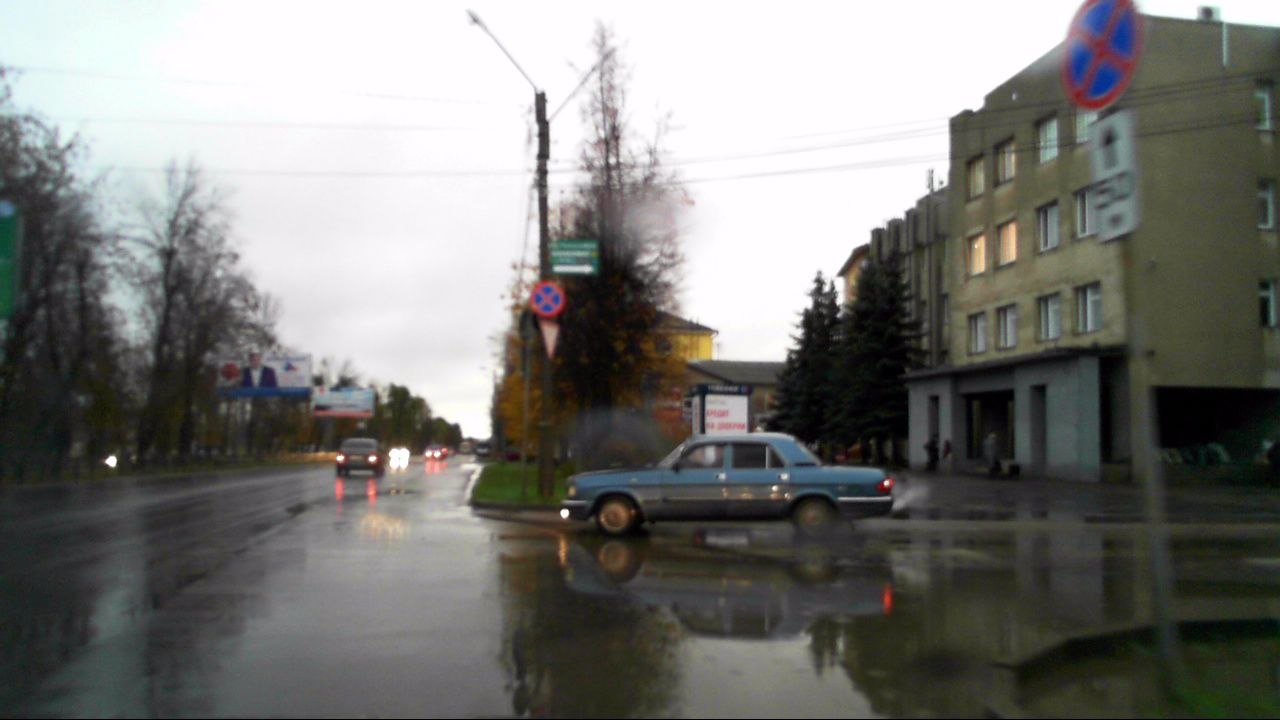No Parking: (1059, 0, 1143, 110)
